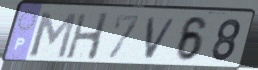6: (171, 15, 212, 64)
7: (107, 13, 142, 61)
8: (209, 18, 242, 64)
H: (64, 11, 112, 62)
M: (28, 10, 79, 60)
V: (143, 16, 180, 61)
